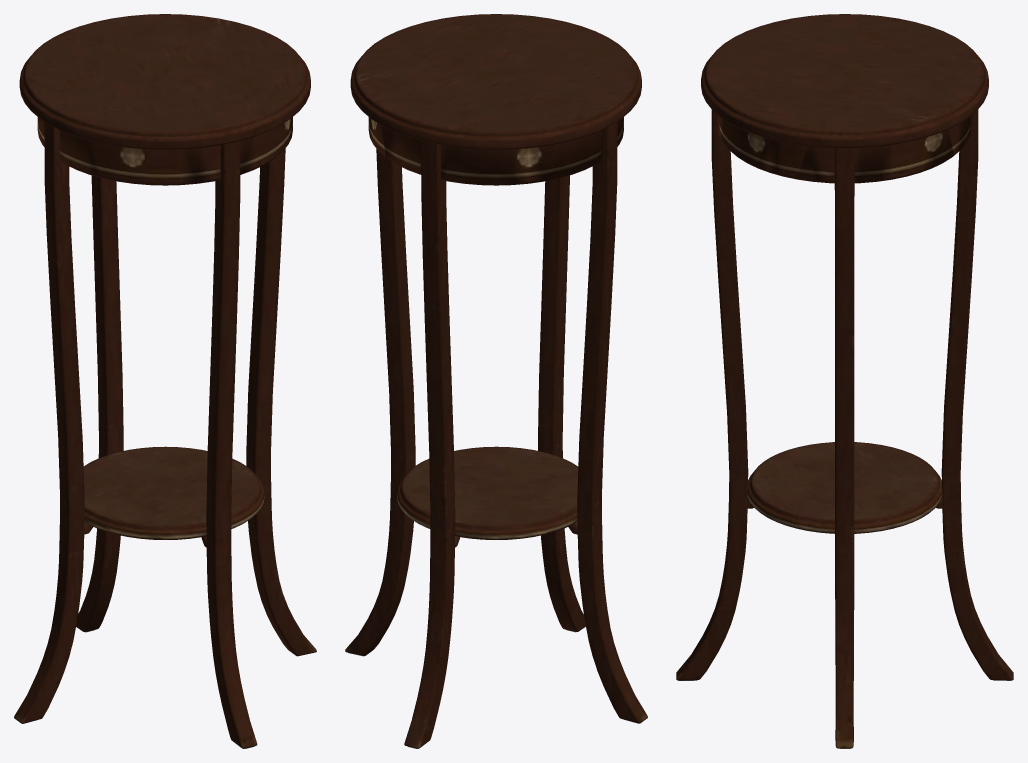
File: side_table_tall_01.glb
3 views of the same model, side by side, from view 1: azimuth 30°, elevation 25°; view 2: azimuth 150°, elevation 25°; view 3: azimuth 270°, elevation 25° (orthographic).
Visible parts, largest first — view 1: side_table_tall_01; view 2: side_table_tall_01; view 3: side_table_tall_01.
Part boxes in pixels (x1,y1,x2,y2): side_table_tall_01: (14,14,316,748); side_table_tall_01: (345,14,647,748); side_table_tall_01: (676,14,1013,748).
Bounding box in the file's own units: 0.384 × 0.7612 × 0.384.
Materials: 1 (1 with a texture image).
